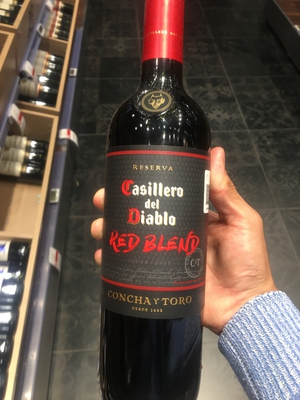casillero del diablo red blend: (88, 7, 213, 400)
